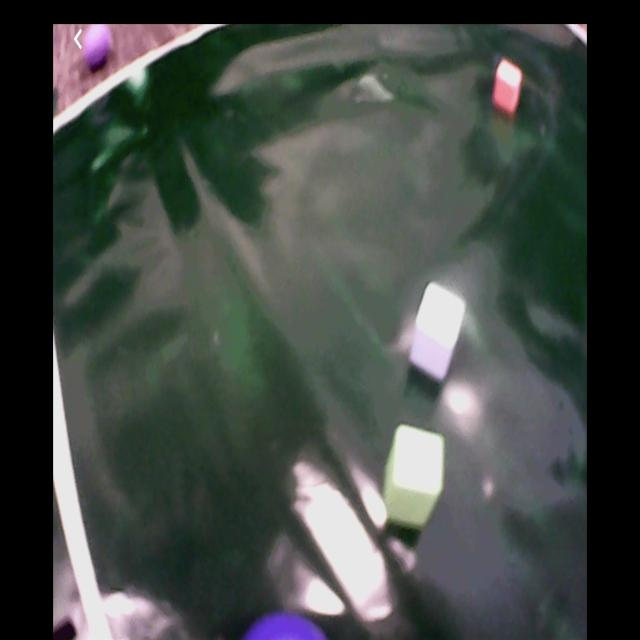ball: (243, 611, 334, 640), (82, 27, 113, 74)
